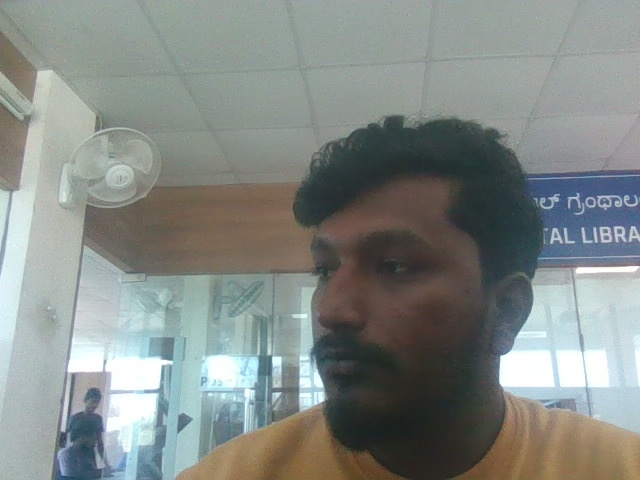real: (278, 92, 521, 437)
